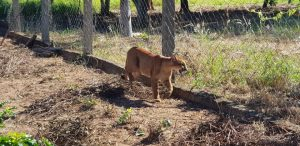OncaParda: (116, 45, 190, 102)
